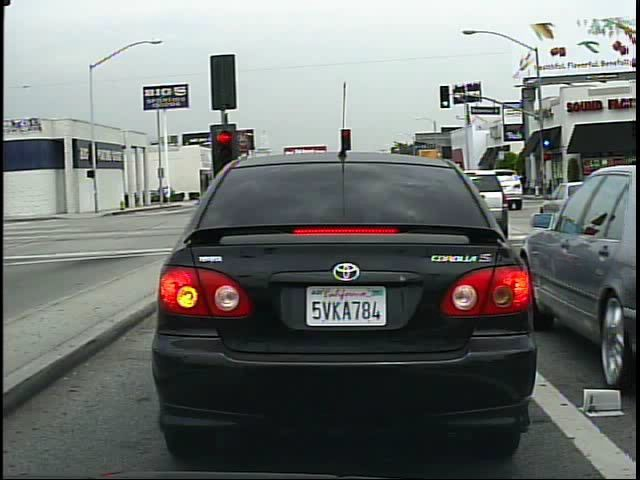person: (519, 167, 533, 199), (164, 183, 174, 207)
